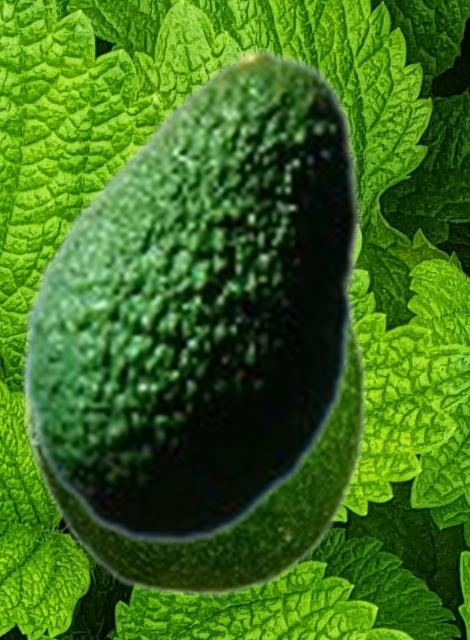avocado: (21, 48, 360, 545), (23, 230, 368, 596)
